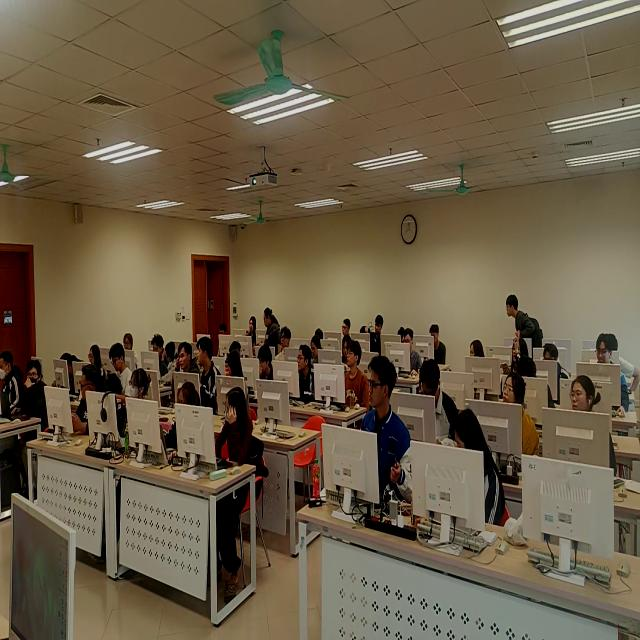raise_hand: (503, 331, 531, 377), (360, 316, 385, 354)
raise_head: (362, 357, 413, 505), (572, 375, 619, 479), (503, 375, 541, 459), (19, 357, 51, 430), (344, 342, 371, 408), (298, 345, 317, 406), (128, 368, 151, 402), (177, 341, 199, 374), (276, 326, 292, 363), (123, 332, 139, 369), (248, 315, 259, 345)
stand: (506, 295, 543, 352), (264, 307, 283, 348)
using_computer: (454, 408, 508, 528), (419, 360, 461, 448), (162, 380, 203, 455), (218, 386, 255, 467), (595, 335, 631, 415), (607, 333, 640, 399), (517, 357, 556, 408), (1, 349, 24, 418), (107, 342, 134, 397), (544, 344, 571, 394), (61, 352, 87, 387), (404, 329, 423, 374), (429, 324, 447, 365), (152, 334, 167, 379), (259, 347, 274, 383), (215, 323, 229, 355), (89, 343, 105, 370), (312, 337, 322, 362), (229, 339, 242, 356), (343, 338, 351, 365), (343, 317, 352, 337), (316, 327, 325, 340), (399, 327, 406, 341)
